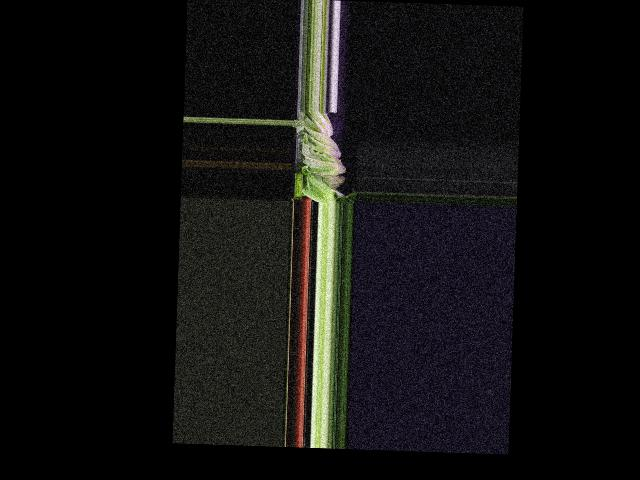lettuce: (305, 110, 334, 139)
